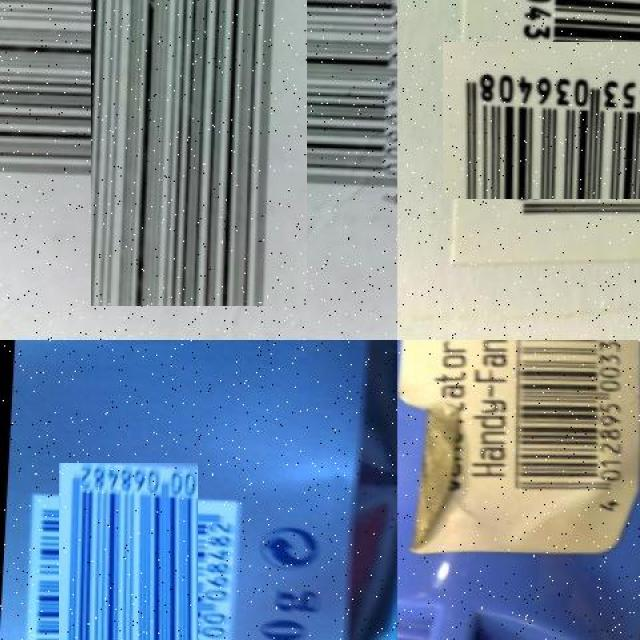Barcode: (46, 0, 353, 262), (463, 22, 640, 219), (495, 340, 637, 536), (41, 483, 217, 640)
